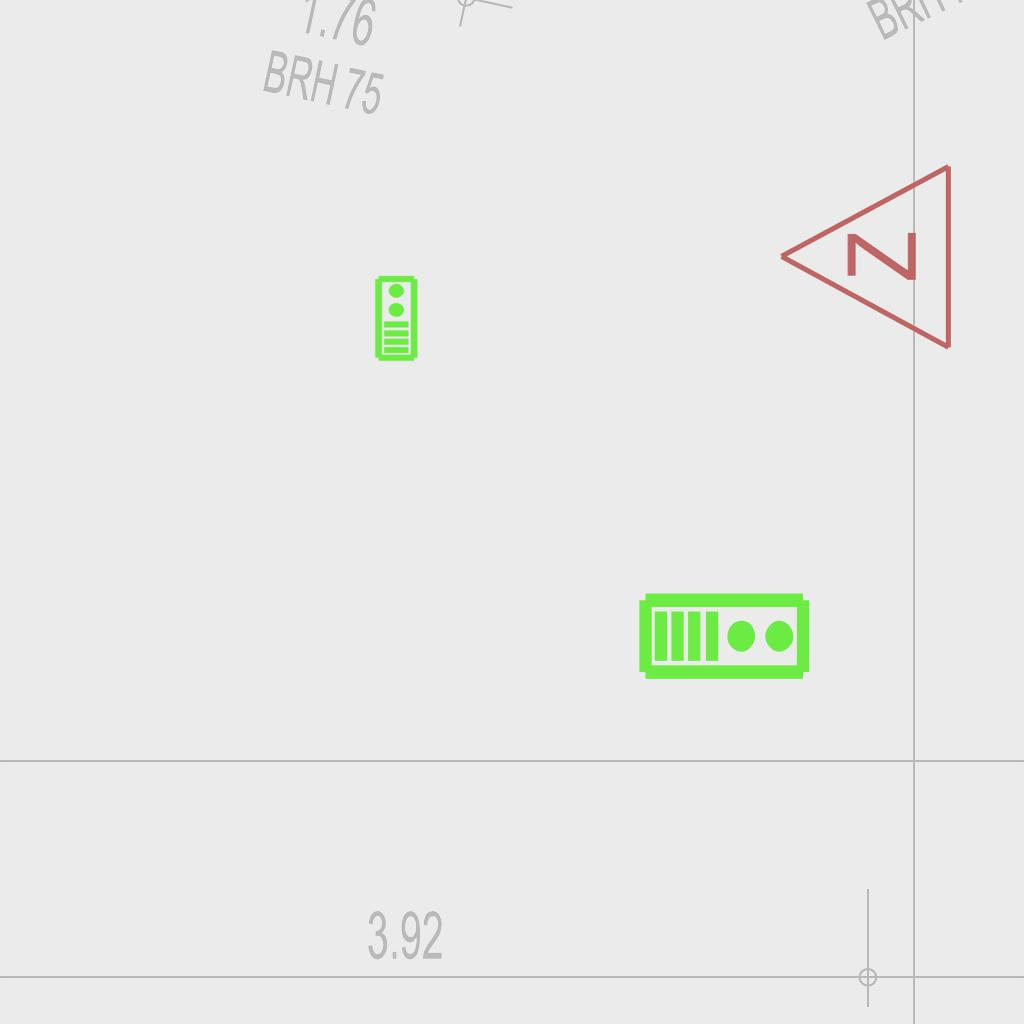Gegensprechanlage_mit_Video: (637, 587, 813, 682), (372, 274, 419, 362)
Zimmersignalleuchte: (766, 161, 966, 357)
